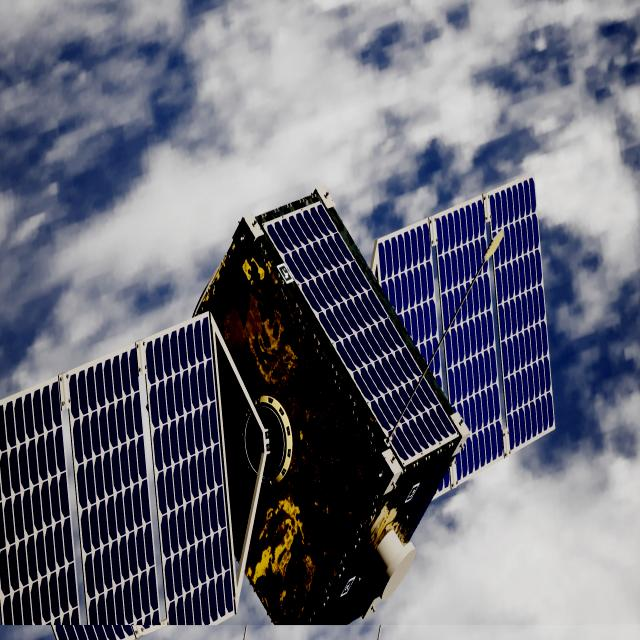medium_debris: (0, 181, 555, 640)
